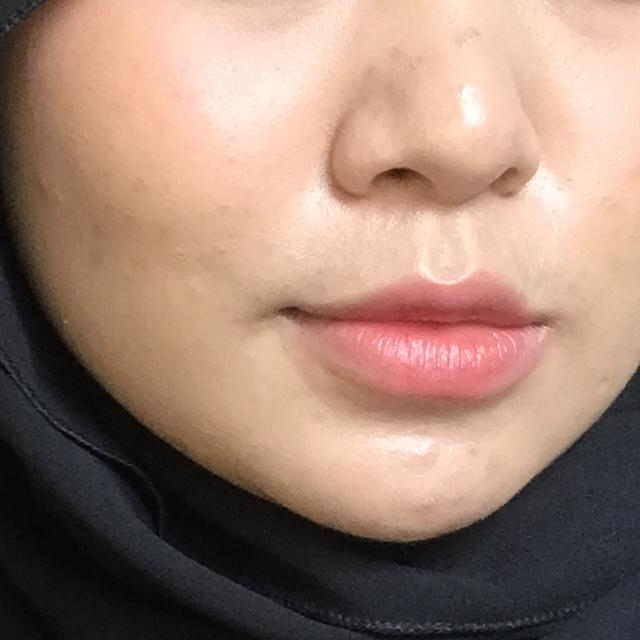mendengar: (0, 0, 260, 606)
